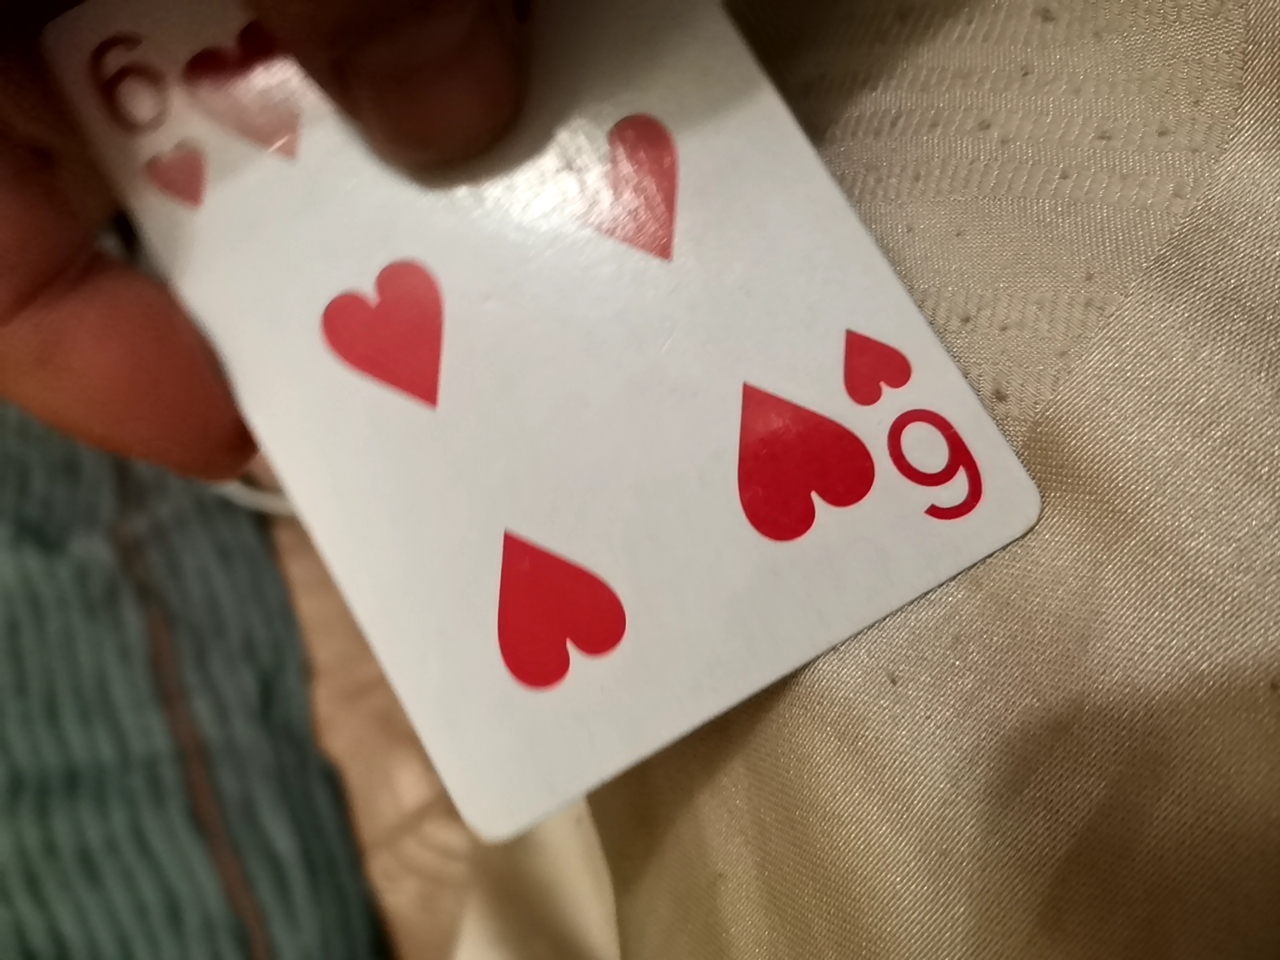hx 6: (107, 34, 1053, 878)
